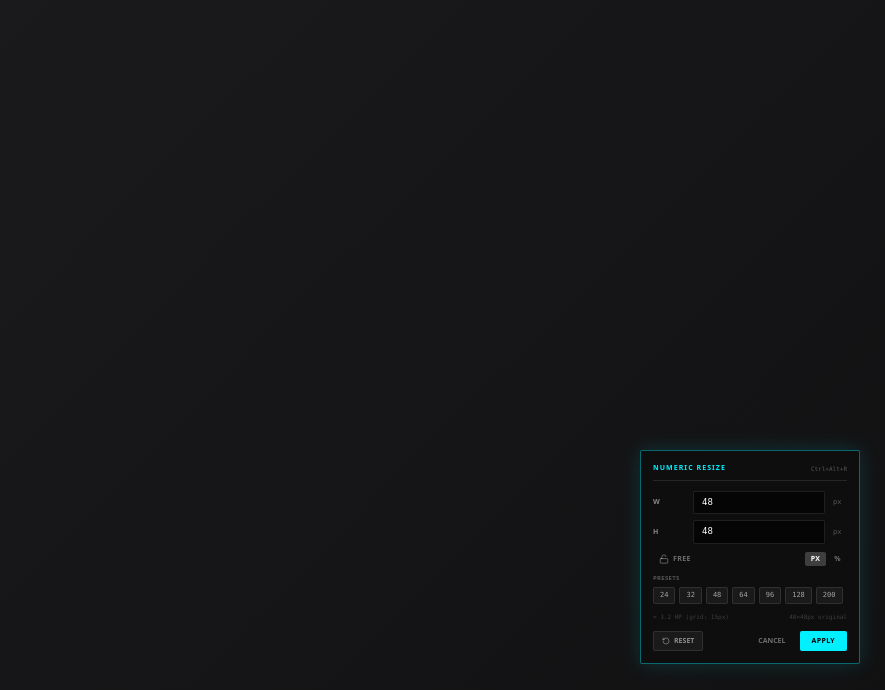
Test: NumericResizePopover — presets › should set W and H when a preset is clicked (no aspect lock)
The width and height of the screenshot is (885, 690).
Check: the field named "Width in pixels" holds "48", box [693, 490, 825, 514]
Click the button "64".
click(744, 595)  # box [732, 587, 755, 604]
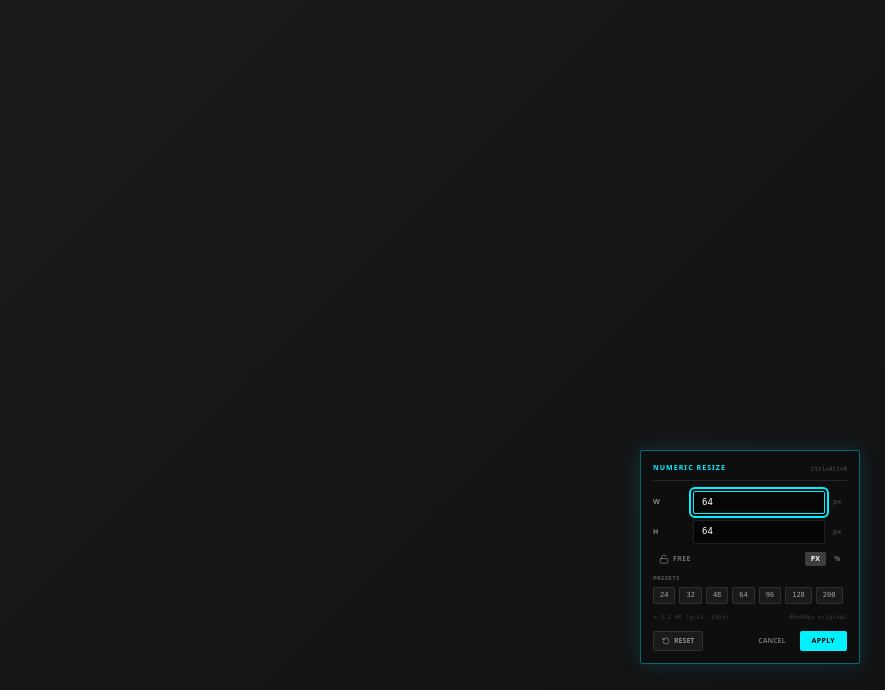
Check: the field named "Width in pixels" holds "64", box [693, 490, 825, 514]
Check: the field named "Height in pixels" holds "64", box [693, 520, 825, 544]
